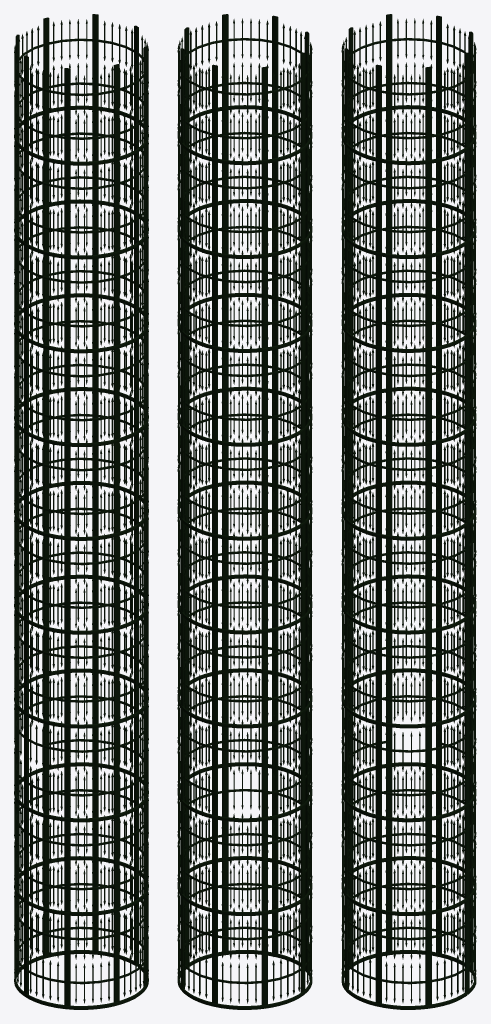
The model's file is spiralstairs_cage.fbx.
3 views of the same model, side by side, from view 1: azimuth 30°, elevation 25°; view 2: azimuth 150°, elevation 25°; view 3: azimuth 330°, elevation 25° (orthographic).
Visible parts, largest first — view 1: pCube398; view 2: pCube398; view 3: pCube398.
Part boxes in pixels (x1,y1,x2,y2): pCube398: (14, 14, 148, 1009); pCube398: (177, 14, 312, 1009); pCube398: (341, 14, 476, 1009).
Size of the model in its own units: 881 by 6784 by 881.
1 material, 1 textured.
